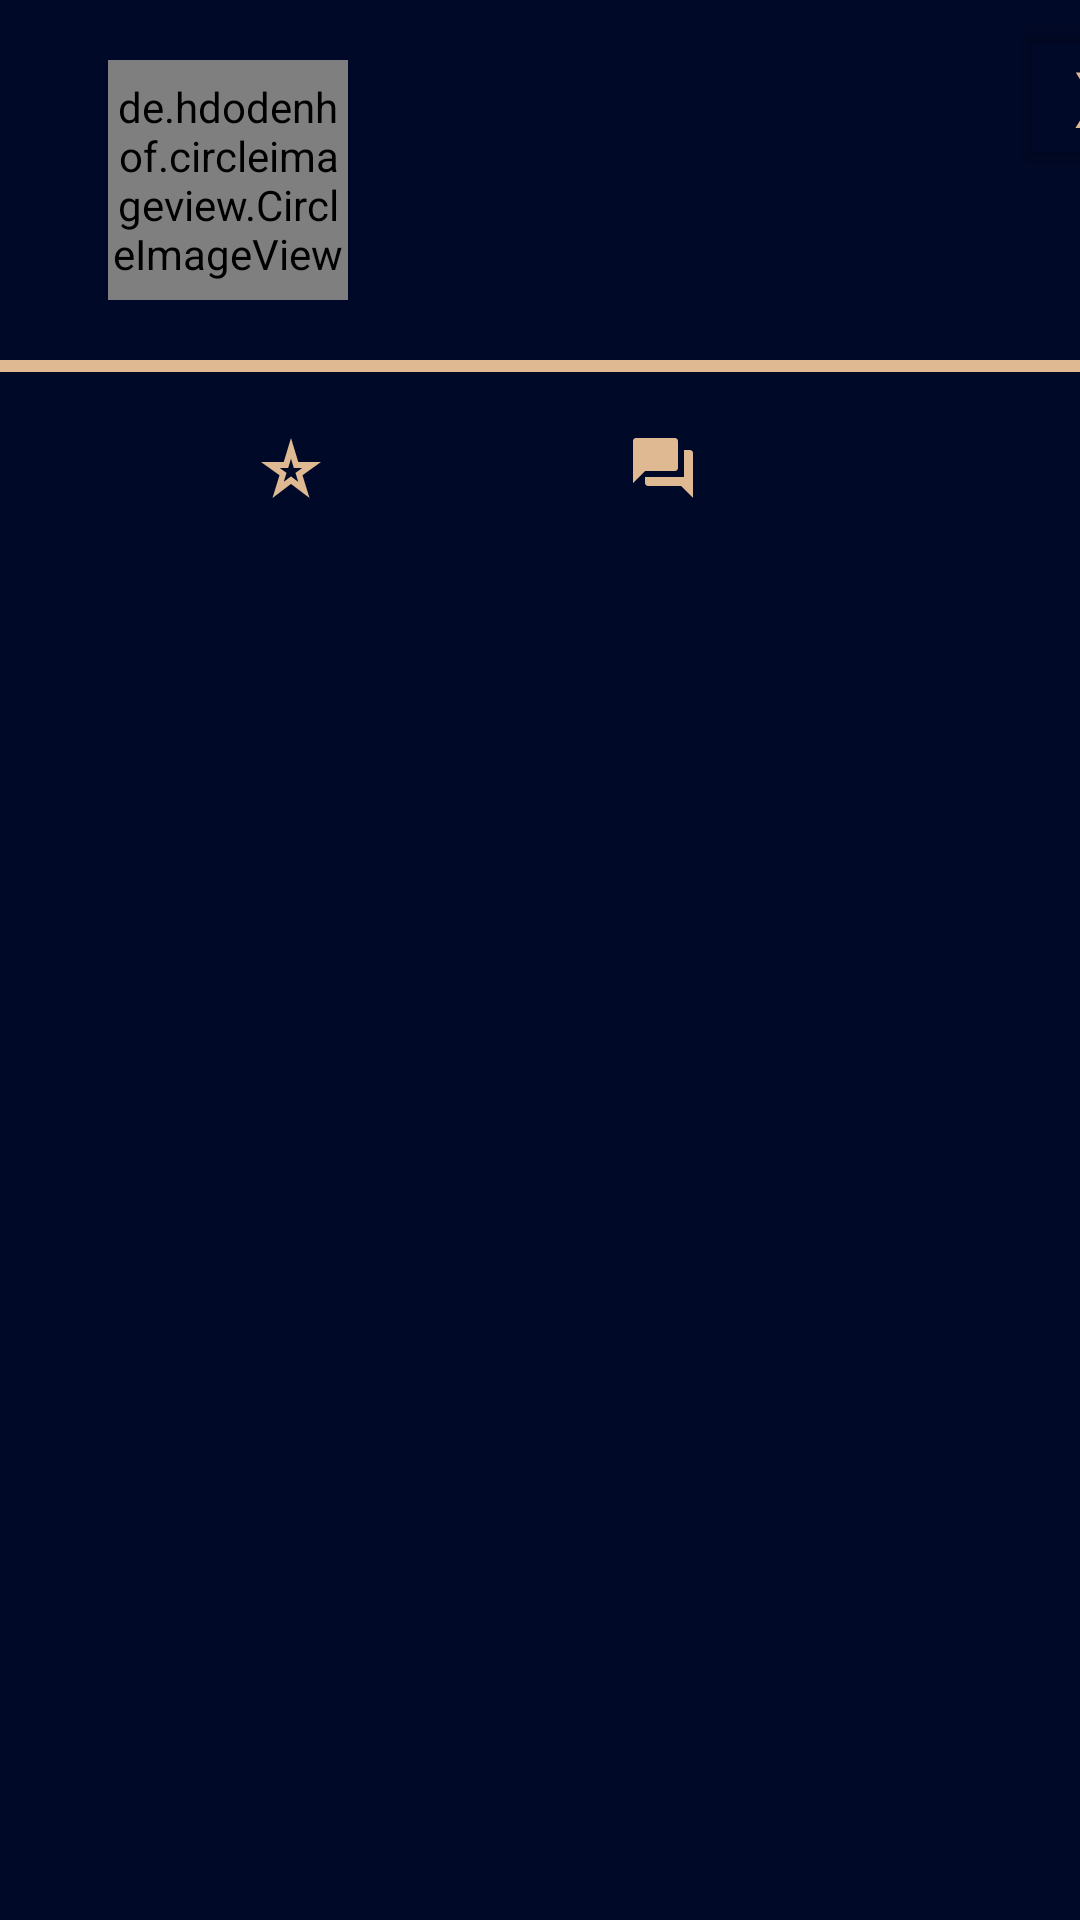

Named icons in this screenshot (1080*1920) and their bounding boxes, [x1=x1, y1=y1, x2=x2, y2=y2]:
question answer: [x1=633, y1=438, x2=693, y2=498]
star border: [x1=261, y1=438, x2=321, y2=498]
